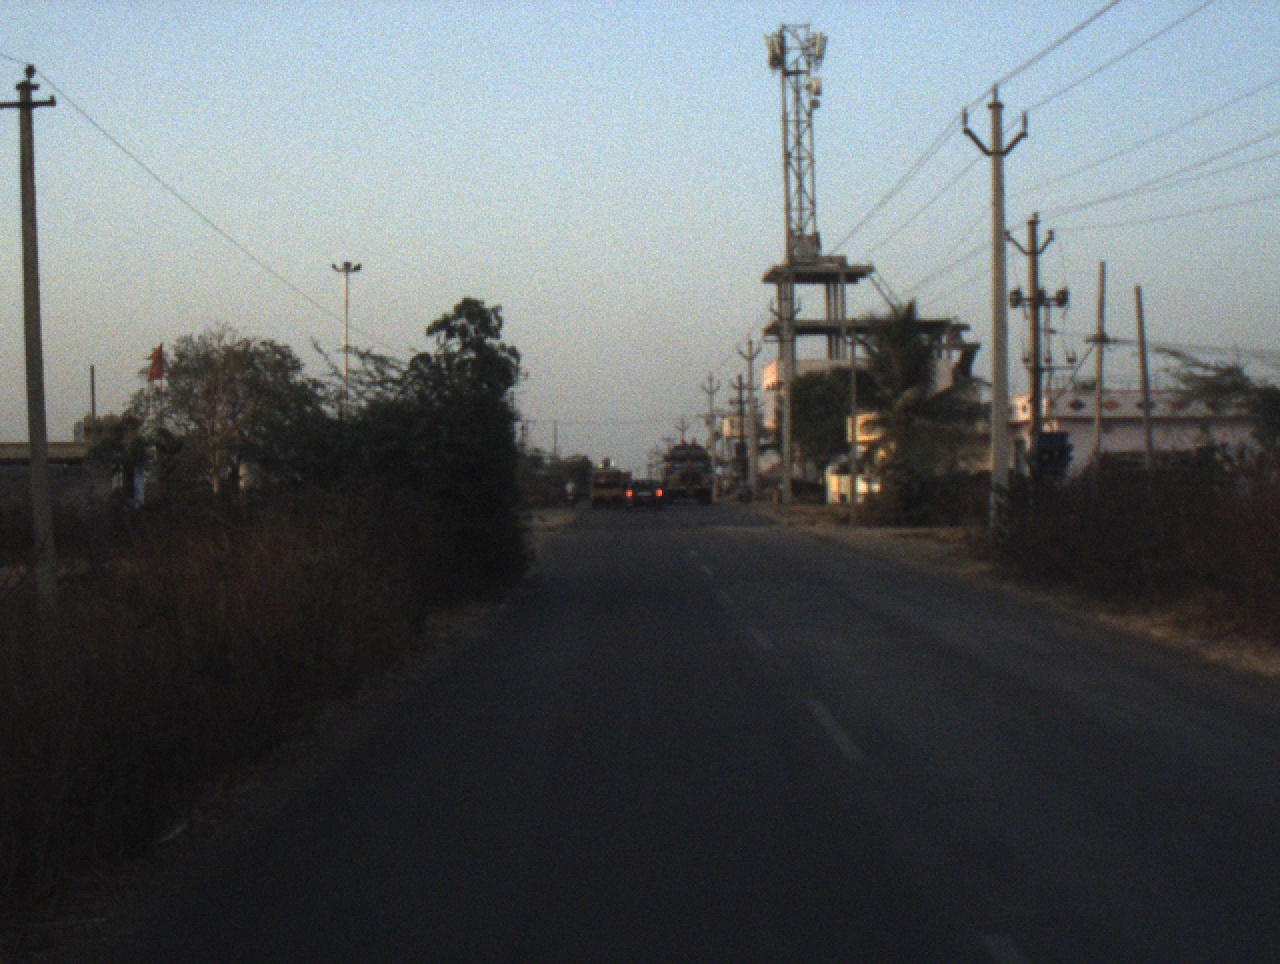autorickshaw: (585, 455, 627, 511)
car: (623, 476, 666, 511)
motorcycle: (732, 485, 754, 505), (563, 490, 580, 511)
person: (768, 477, 785, 503)
rider: (731, 472, 752, 501), (561, 475, 579, 497)
truck: (659, 439, 719, 505)
vehicle fallback: (620, 468, 633, 487)
